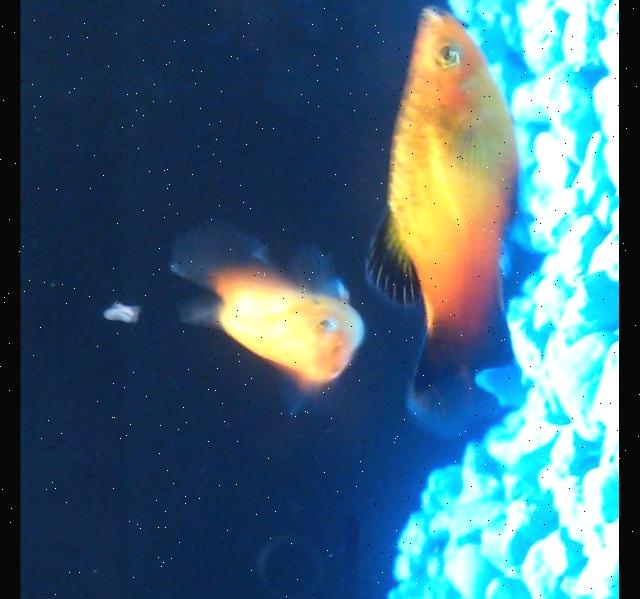Mulut: (391, 0, 471, 48)
Sirip Ekor: (392, 326, 549, 446)
Sirip Punggung: (358, 204, 433, 308)
